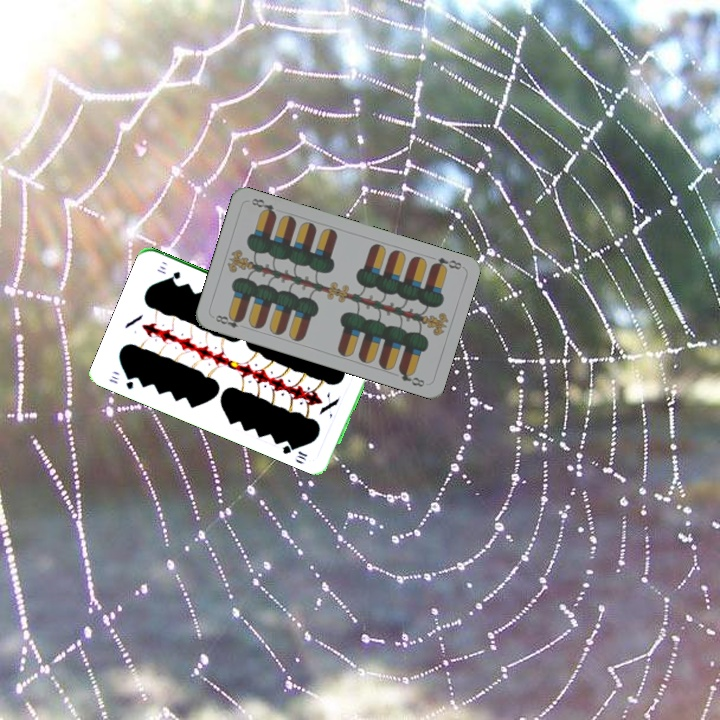E8: (209, 311, 246, 331), (427, 253, 464, 273)
G10: (105, 371, 136, 392)
